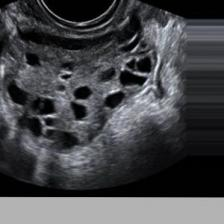pcos: (0, 15, 168, 155)
